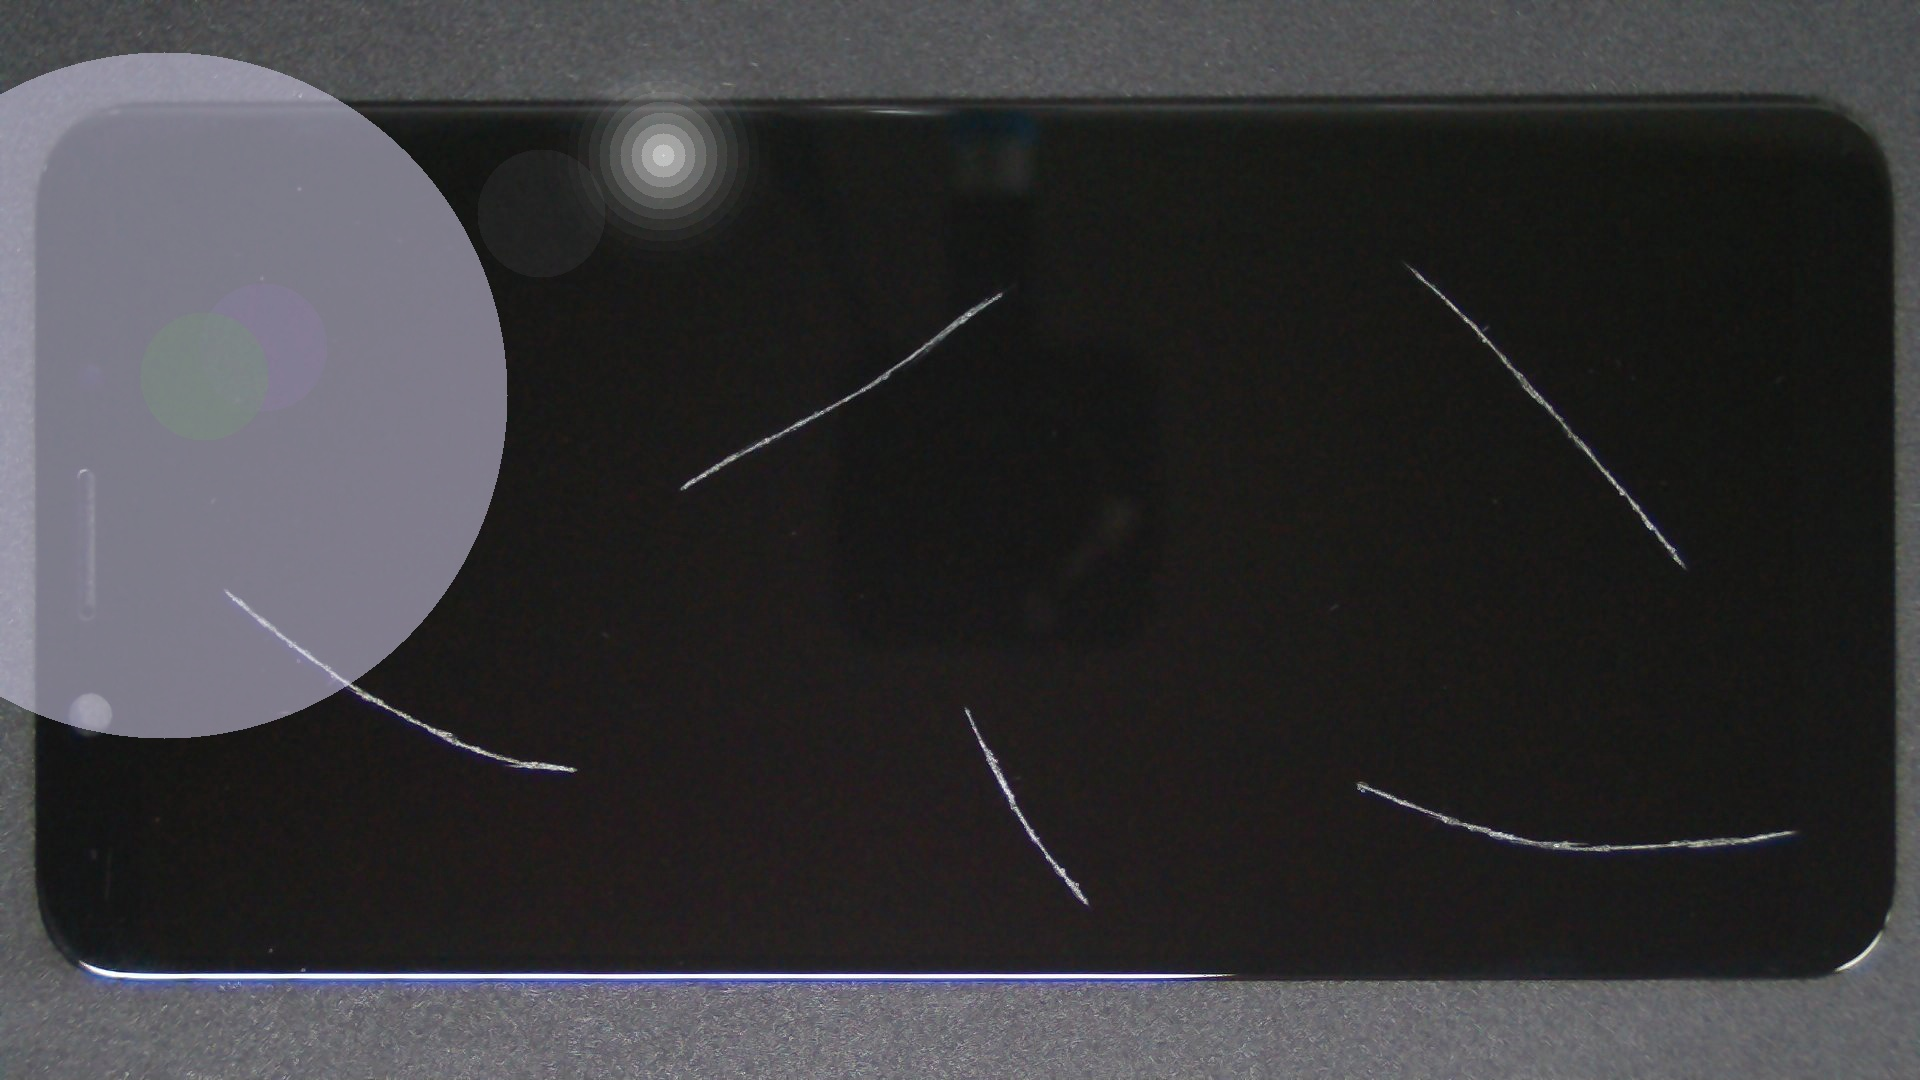oil: (682, 390, 1920, 1080), (483, 353, 1448, 1063), (700, 128, 1920, 392), (501, 145, 1502, 436), (108, 290, 338, 884)
